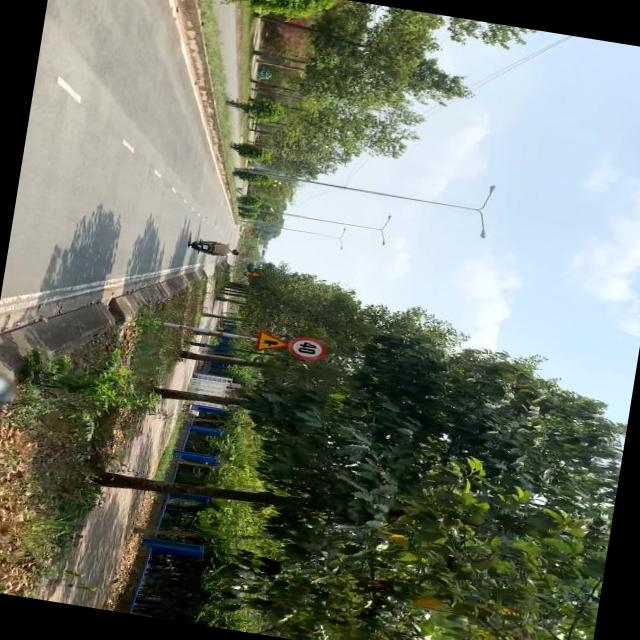P-127: (286, 336, 330, 362)
W-207b: (253, 329, 291, 355)
